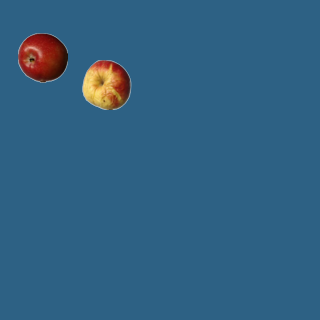Apple Braeburn: (17, 32, 67, 82)
Apple Red Yellow 1: (81, 59, 131, 109)
